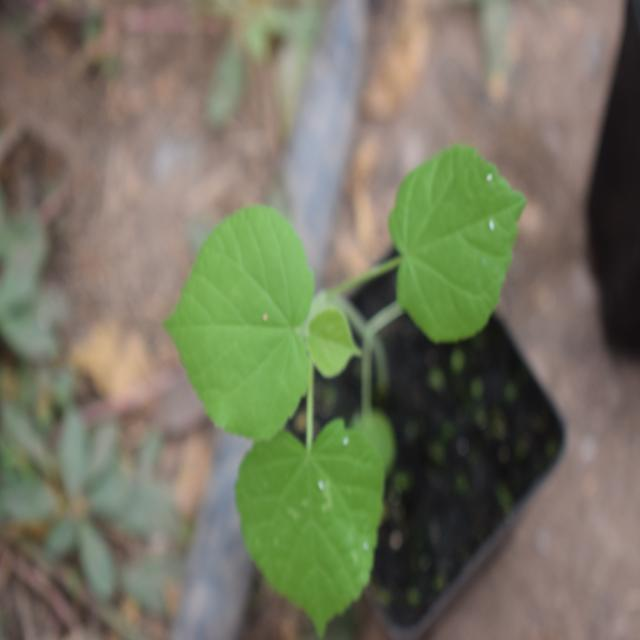abutilon theophrasti: (153, 146, 515, 592)
